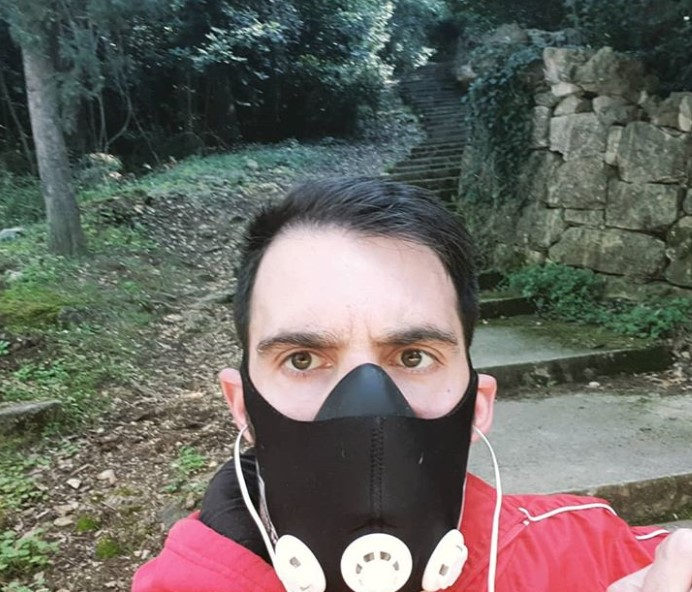face_with_mask: (237, 184, 485, 592)
